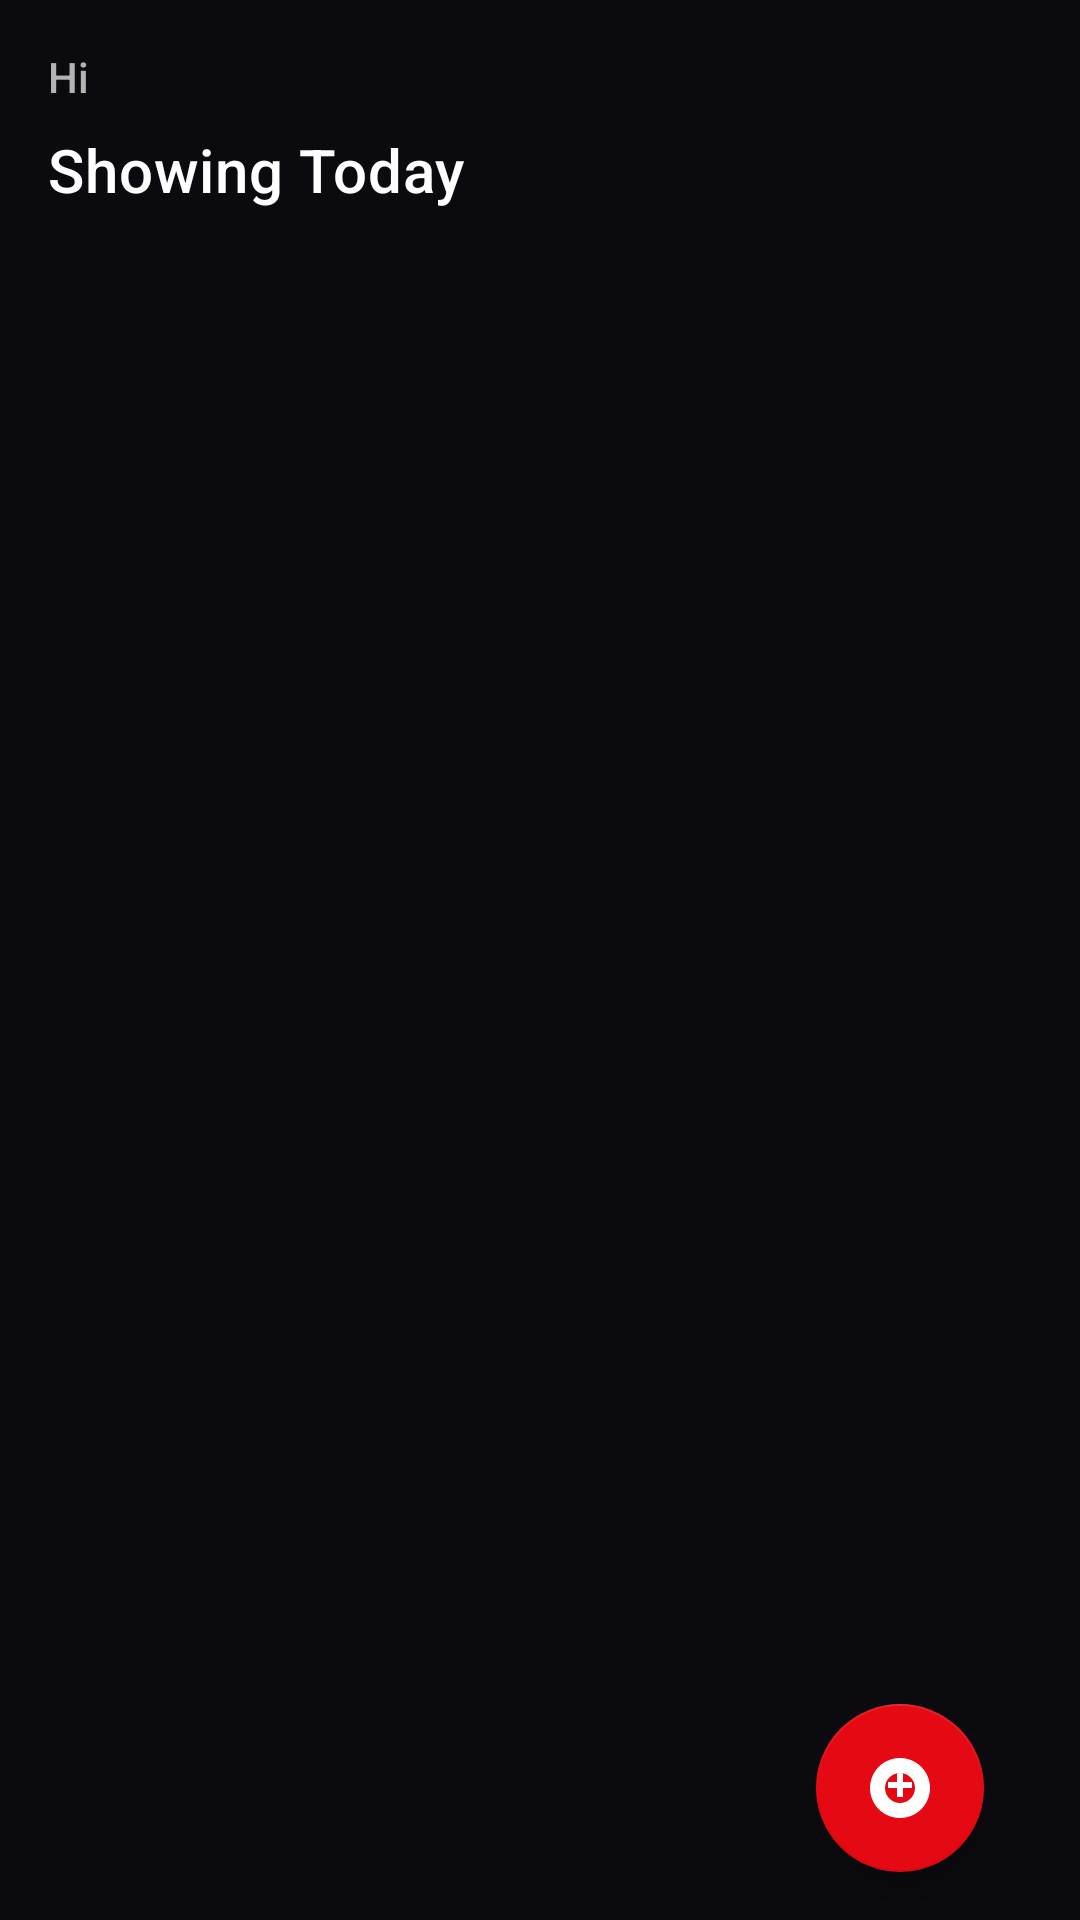

Point at icon controls on the screen. Image size 1080px×1920px, points as [x,y].
Add movie: [900,1788]
